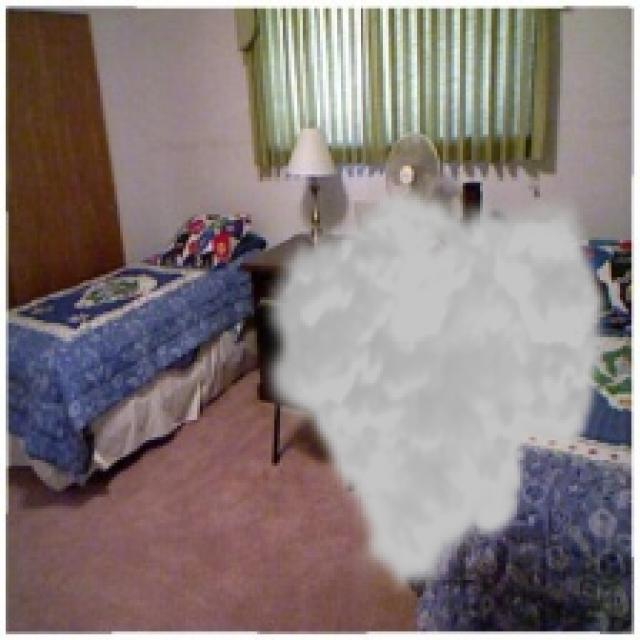smoke: (255, 183, 614, 600)
